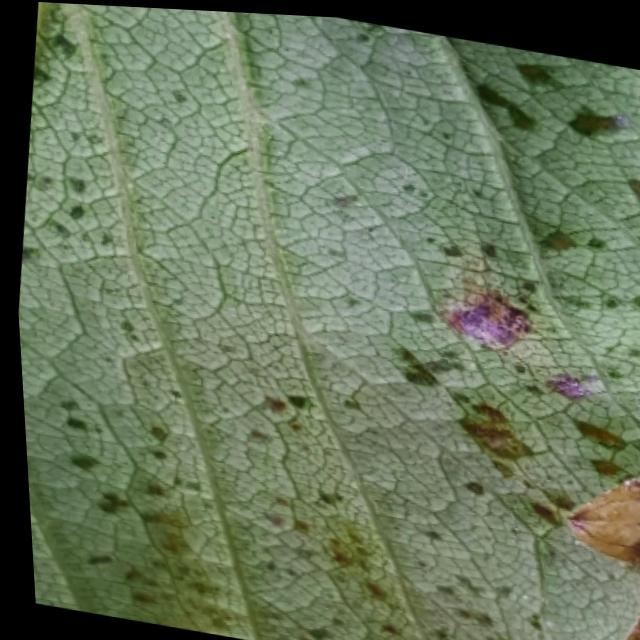Angular Leafspot: (14, 2, 640, 640)
